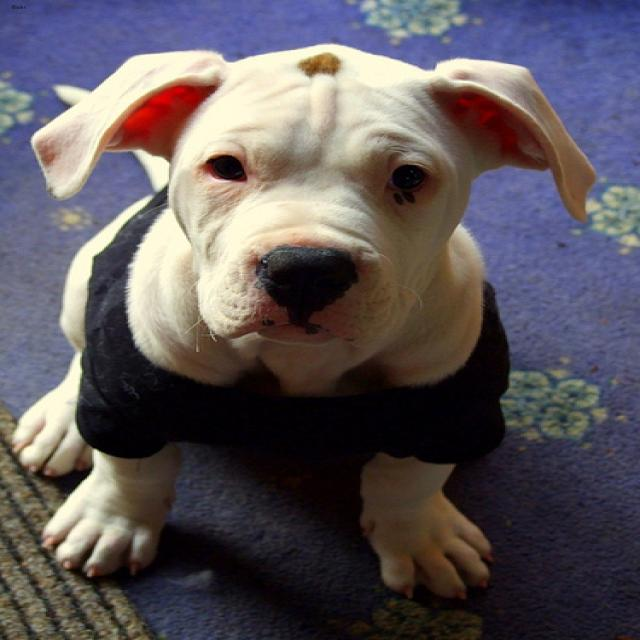dog-american_bulldog: (2, 35, 609, 585)
